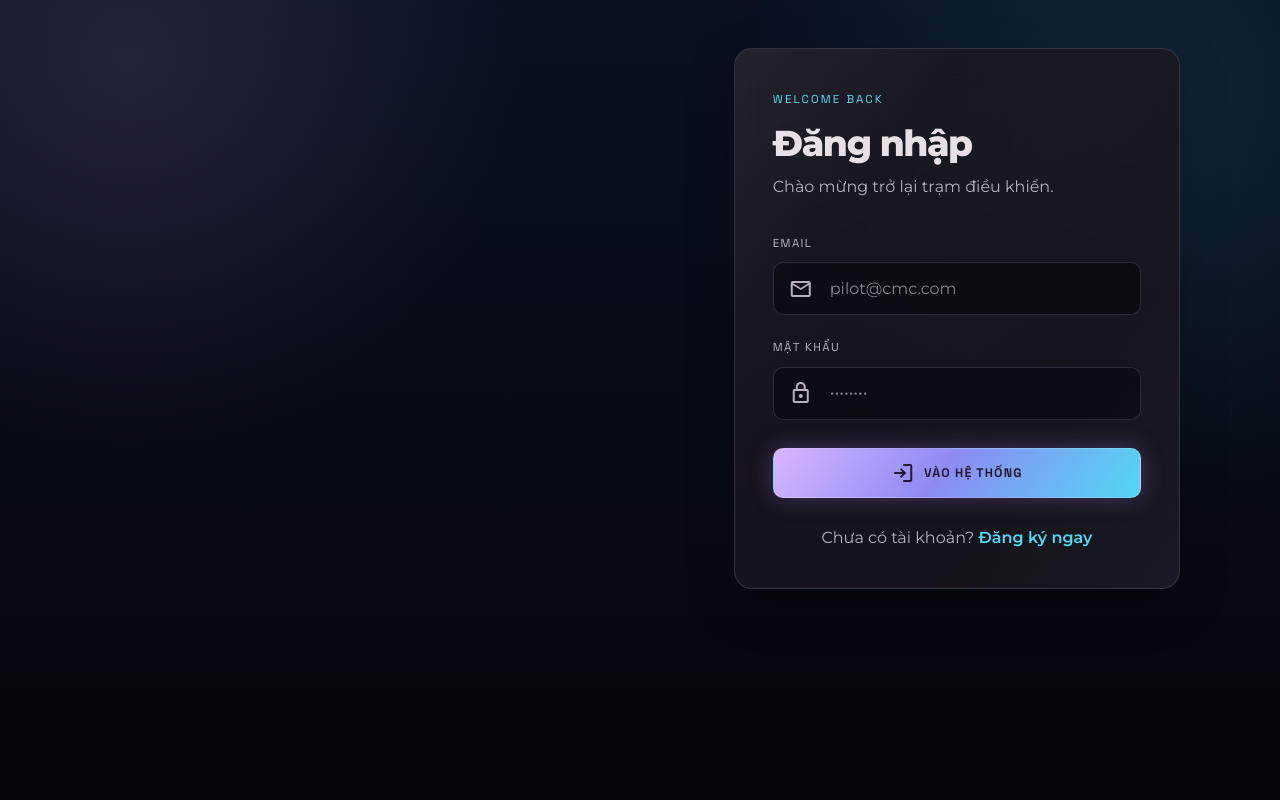
Test: Login/register UI › hiển thị lỗi đăng nhập từ backend
In the field labelled "Email": (957, 289) [773,262,1141,315], type "wrong@cmc.com"
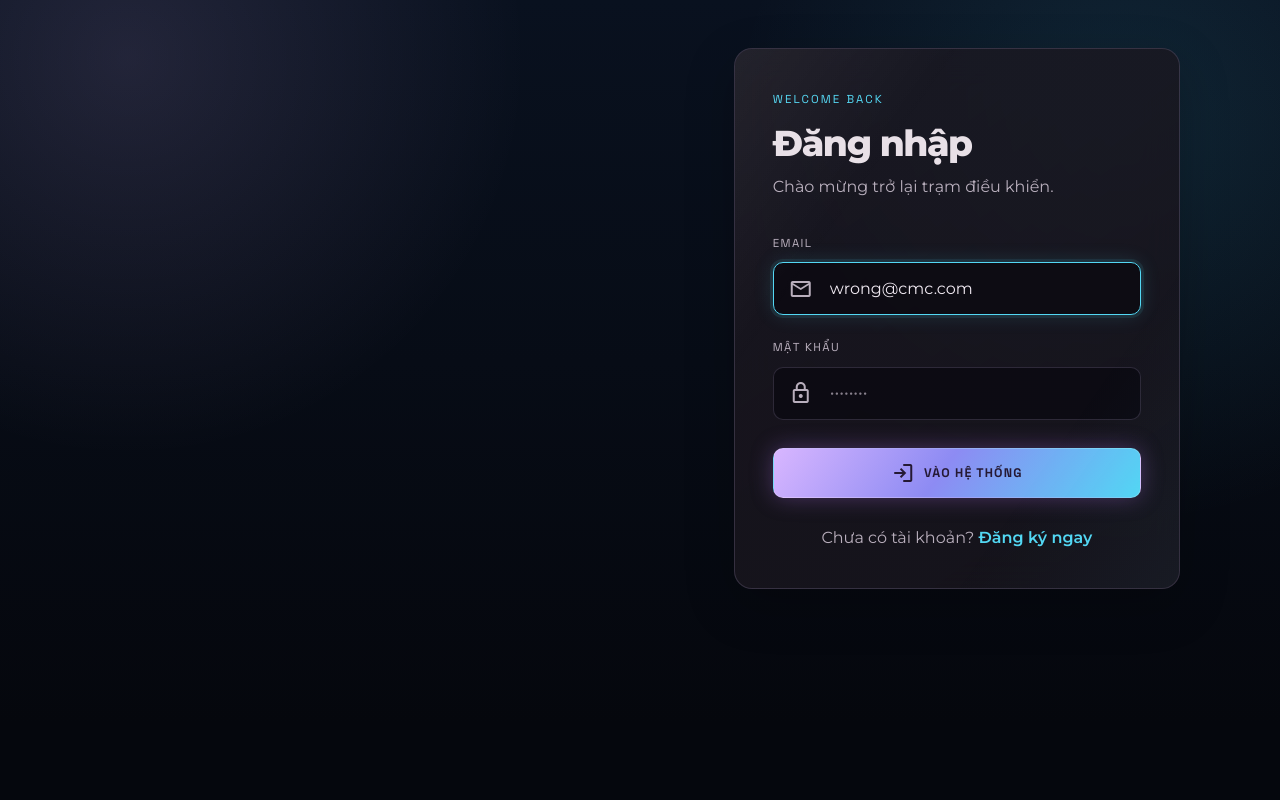
In the password field labelled "Mật khẩu": (957, 393) [773,367,1141,420], type "saimatkhau"
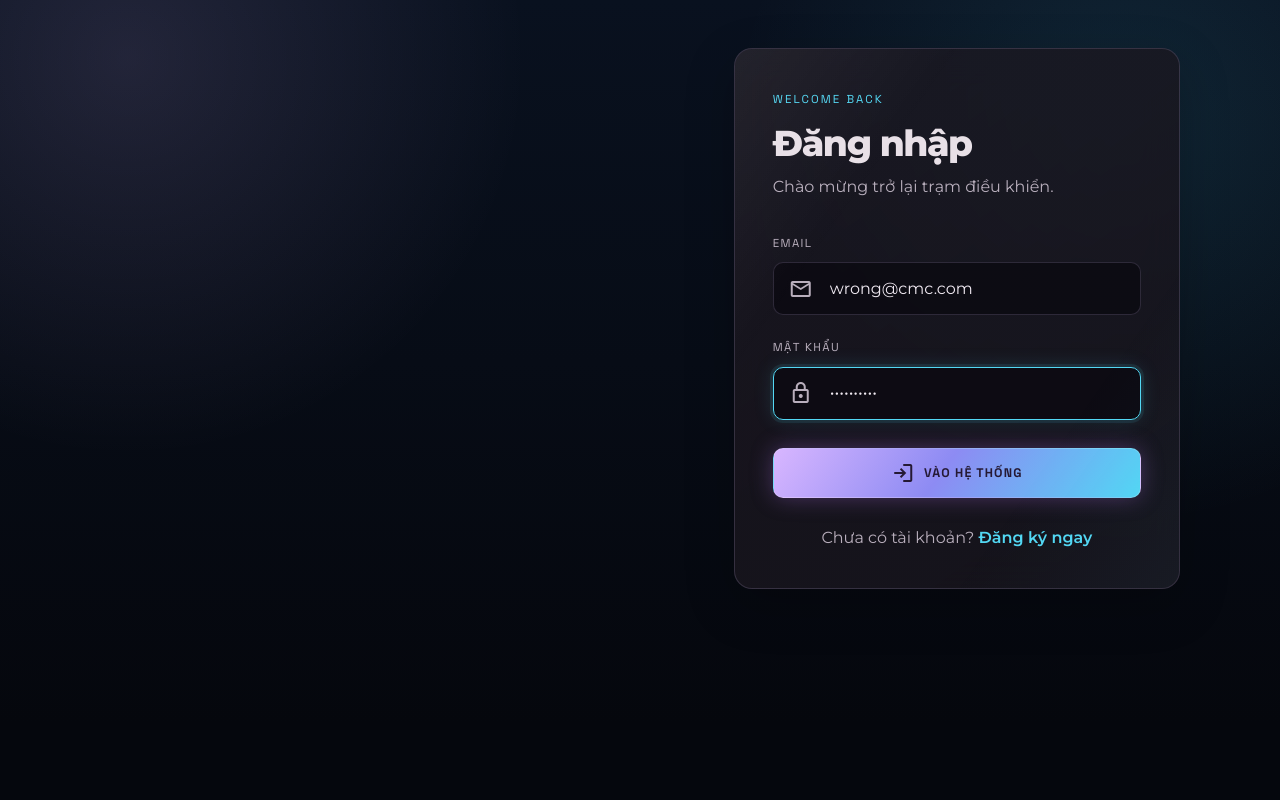
Click the button "Vào hệ thống": (957, 473) [773,448,1141,498]
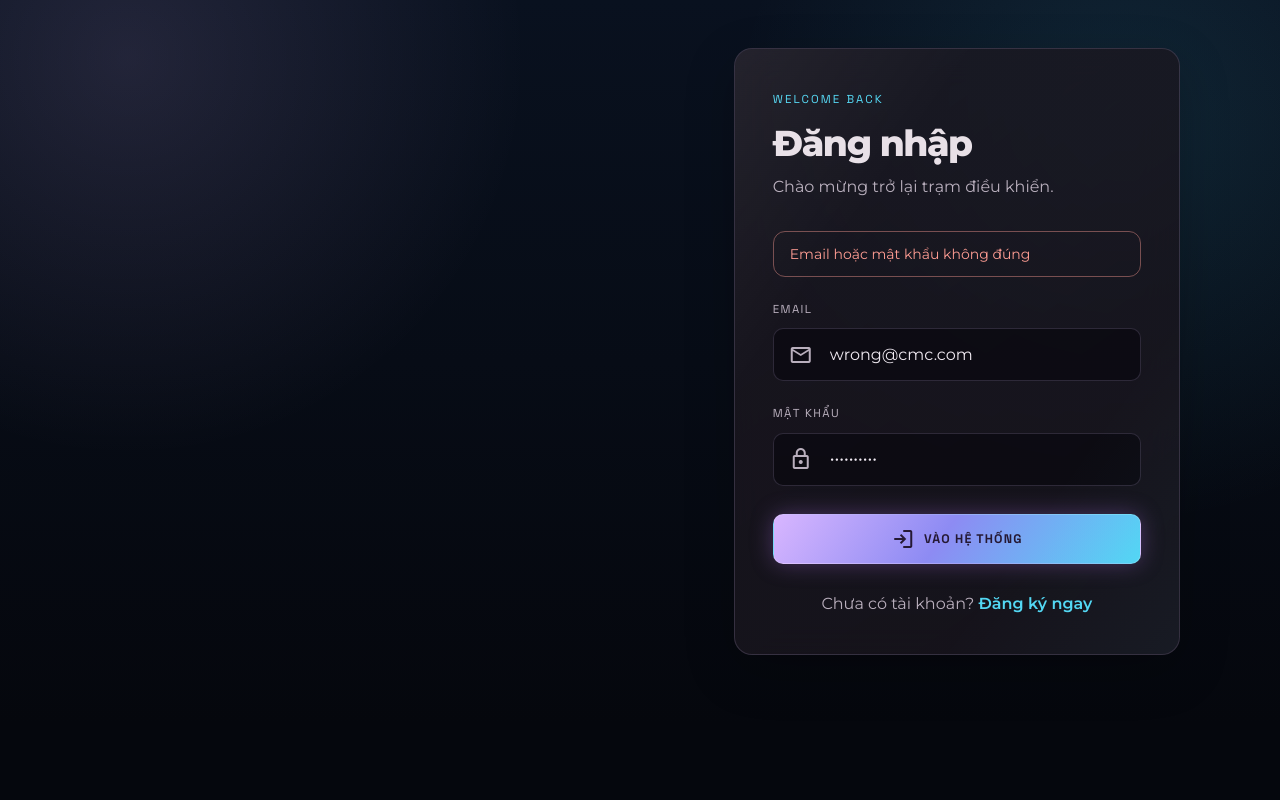
Check: the text "Email hoặc mật khẩu không đúng" is shown, box [773,231,1141,277]
